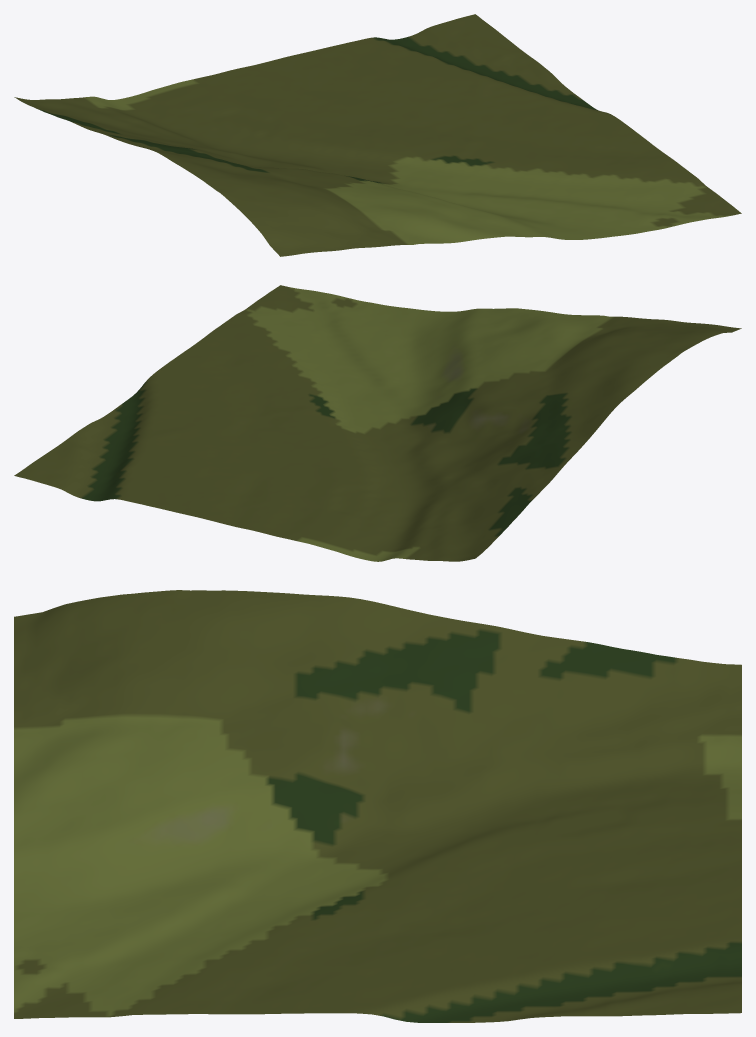
File: terrain_16_-12.glb
The picture shows the model from 3 angles, top to bottom: view 1: azimuth 30°, elevation 25°; view 2: azimuth 150°, elevation 25°; view 3: azimuth 270°, elevation 25°; orthographic projection. The views are drawn at different scales.
Visible parts, largest first — view 1: terrain_16_-12; view 2: terrain_16_-12; view 3: terrain_16_-12.
Boxes of the visible parts, <box> form: terrain_16_-12: <box>14,14,741,256</box>; terrain_16_-12: <box>14,285,741,561</box>; terrain_16_-12: <box>14,590,741,1022</box>.
Size of the model in its own units: 256 by 48.61 by 256.
